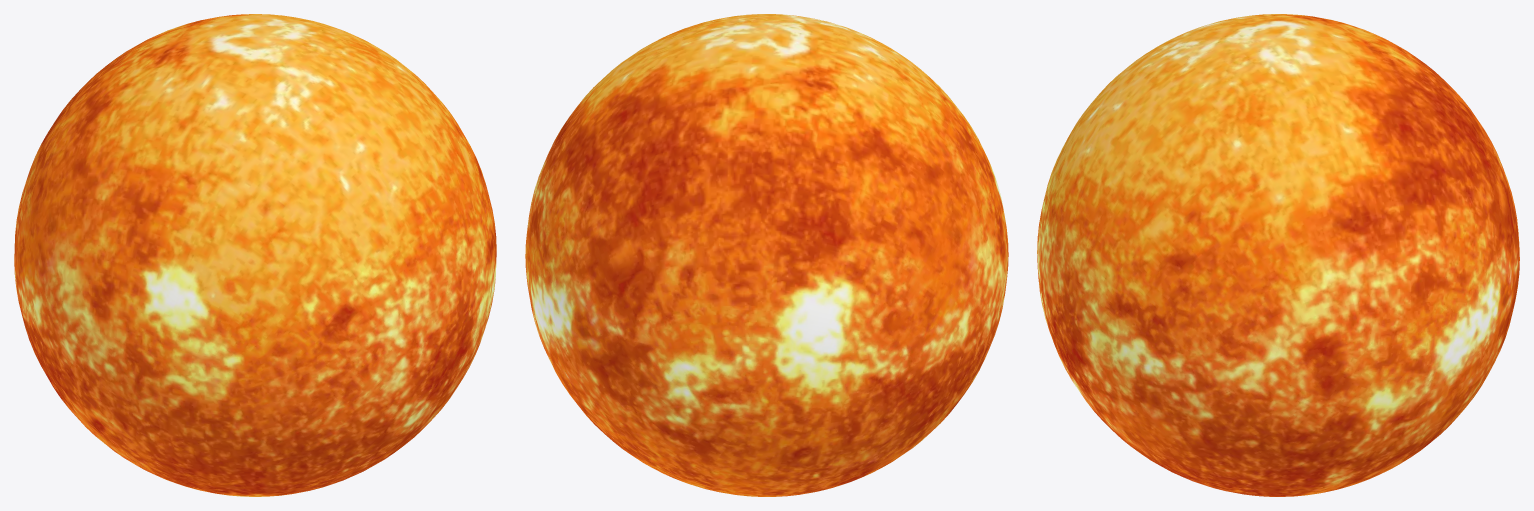
Rendered from Sol.glb.
The picture shows the model from 3 angles, left to right: view 1: azimuth 30°, elevation 25°; view 2: azimuth 150°, elevation 25°; view 3: azimuth 270°, elevation 25°; orthographic projection.
Visible parts, largest first — view 1: sun1; view 2: sun1; view 3: sun1.
Boxes of the visible parts, x1,y1,x2,y2 form: sun1: [14, 14, 496, 496]; sun1: [525, 14, 1008, 496]; sun1: [1037, 14, 1519, 496].
Bounding box in the file's own units: 1.99 × 1.99 × 1.99.
1 material, 1 textured.
